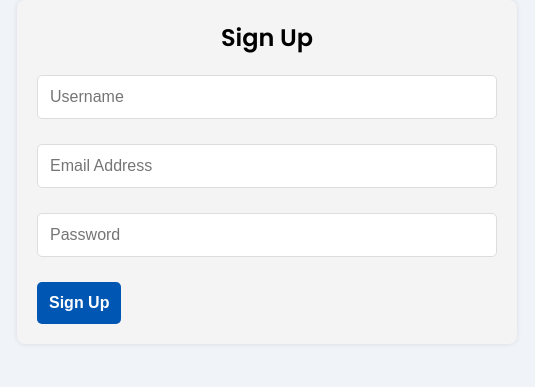
Scenario: SignupForm › displays error message on network error
In the field with placeholder "Username": (267, 97) x1=37 y1=75 x2=497 y2=119, type "testuser"
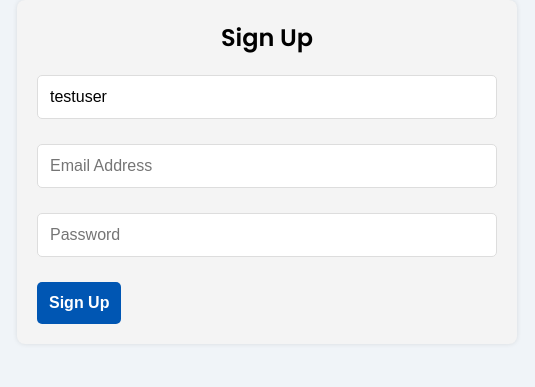
In the field with placeholder "Email Address": (267, 166) x1=37 y1=144 x2=497 y2=188, type "test@example.com"
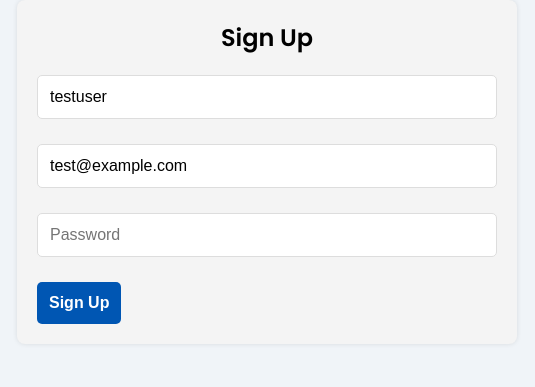
In the password field with placeholder "Password": (267, 235) x1=37 y1=213 x2=497 y2=257, type "password123"
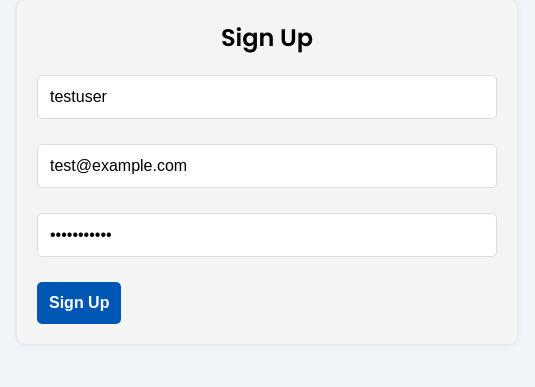
Click the button "Sign Up": (79, 303) x1=37 y1=282 x2=121 y2=324
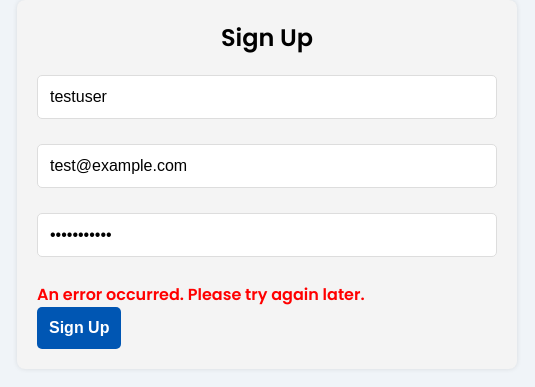
Expected: the text "An error occurred. Please try again later." is shown, x1=37 y1=283 x2=365 y2=306
